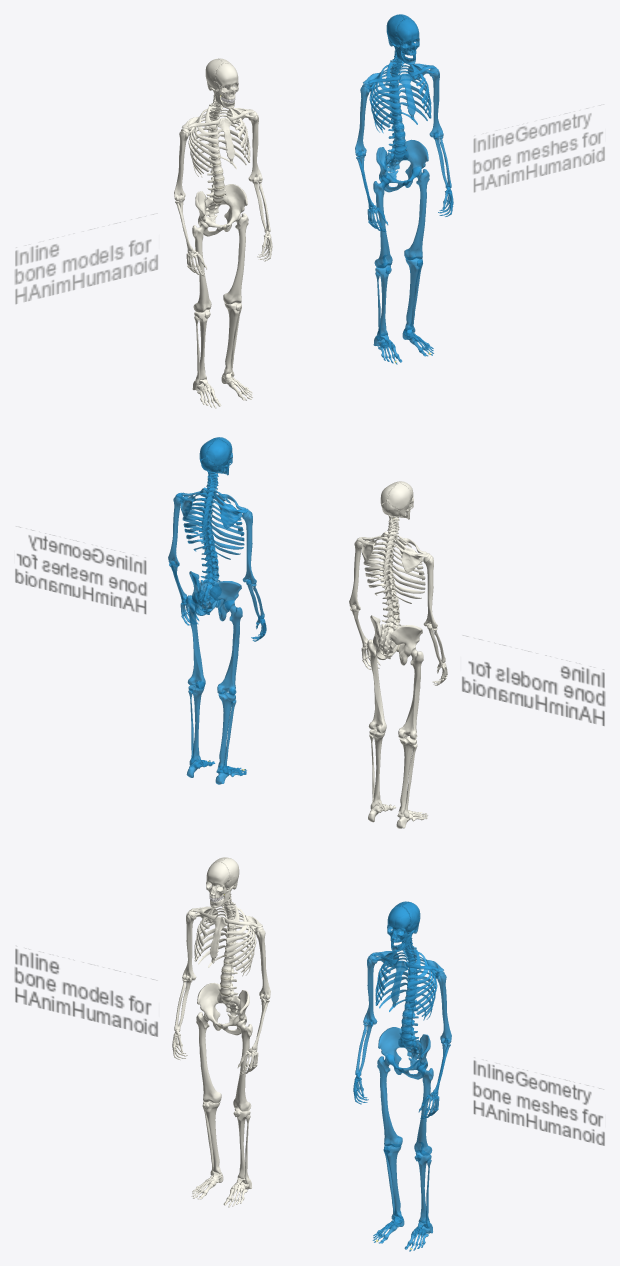
File: AllBonesLOA5Skeletons.glb
3 renders of one model, top to bottom at view 1: azimuth 30°, elevation 25°; view 2: azimuth 150°, elevation 25°; view 3: azimuth 330°, elevation 25°, orthographic.
Parts seen in each view (by area): view 1: TextShapeMesh, TextShapeInline, Shape_1991, Shape_57, Shape_2196, Shape_293, Shape_1969, Shape_29, Shape_2003, Shape_73, Shape_1464, Shape_2995 (+2 smaller); view 2: TextShapeMesh, TextShapeInline, Shape_2196, Shape_293, Shape_1991, Shape_57, Shape_35, Shape_1974, Shape_2208, Shape_309, Shape_3215, Shape_1718 (+2 smaller); view 3: TextShapeMesh, TextShapeInline, Shape_2196, Shape_293, Shape_1991, Shape_57, Shape_1974, Shape_35, Shape_2208, Shape_3215, Shape_309, Shape_1718 (+2 smaller).
Part boxes in pixels (left/top/right/bottom): TextShapeMesh: left=473, top=105, right=604, bottom=192; TextShapeInline: left=14, top=214, right=157, bottom=304; Shape_1991: left=404, top=169, right=429, bottom=260; Shape_57: left=223, top=213, right=248, bottom=304; Shape_2196: left=373, top=176, right=392, bottom=268; Shape_293: left=192, top=220, right=211, bottom=312; Shape_1969: left=402, top=139, right=428, bottom=187; Shape_29: left=222, top=184, right=247, bottom=231; Shape_2003: left=404, top=258, right=422, bottom=331; Shape_73: left=223, top=302, right=241, bottom=375; Shape_1464: left=248, top=111, right=262, bottom=183; Shape_2995: left=429, top=67, right=443, bottom=139; TextShapeMesh: left=15, top=527, right=146, bottom=614; TextShapeInline: left=462, top=635, right=605, bottom=725; Shape_2196: left=217, top=602, right=242, bottom=695; Shape_293: left=398, top=646, right=423, bottom=739; Shape_1991: left=186, top=595, right=205, bottom=689; Shape_57: left=367, top=639, right=386, bottom=733; Shape_35: left=390, top=625, right=422, bottom=665; Shape_1974: left=209, top=581, right=241, bottom=621; Shape_2208: left=218, top=692, right=235, bottom=769; Shape_309: left=398, top=736, right=416, bottom=814; Shape_3215: left=242, top=510, right=256, bottom=584; Shape_1718: left=423, top=554, right=437, bottom=628; TextShapeMesh: left=473, top=1060, right=604, bottom=1145; TextShapeInline: left=14, top=949, right=157, bottom=1036; Shape_2196: left=377, top=1056, right=402, bottom=1147; Shape_293: left=196, top=1012, right=221, bottom=1103; Shape_1991: left=414, top=1064, right=433, bottom=1155; Shape_57: left=233, top=1019, right=252, bottom=1111; Shape_1974: left=378, top=1027, right=403, bottom=1074; Shape_35: left=197, top=983, right=221, bottom=1030; Shape_2208: left=384, top=1145, right=401, bottom=1218; Shape_3215: left=363, top=954, right=377, bottom=1026; Shape_309: left=203, top=1101, right=220, bottom=1173; Shape_1718: left=182, top=910, right=196, bottom=982.
Bounding box in the file's own units: 3.27 × 1.77 × 0.2661.
512 materials, 2 textured.
